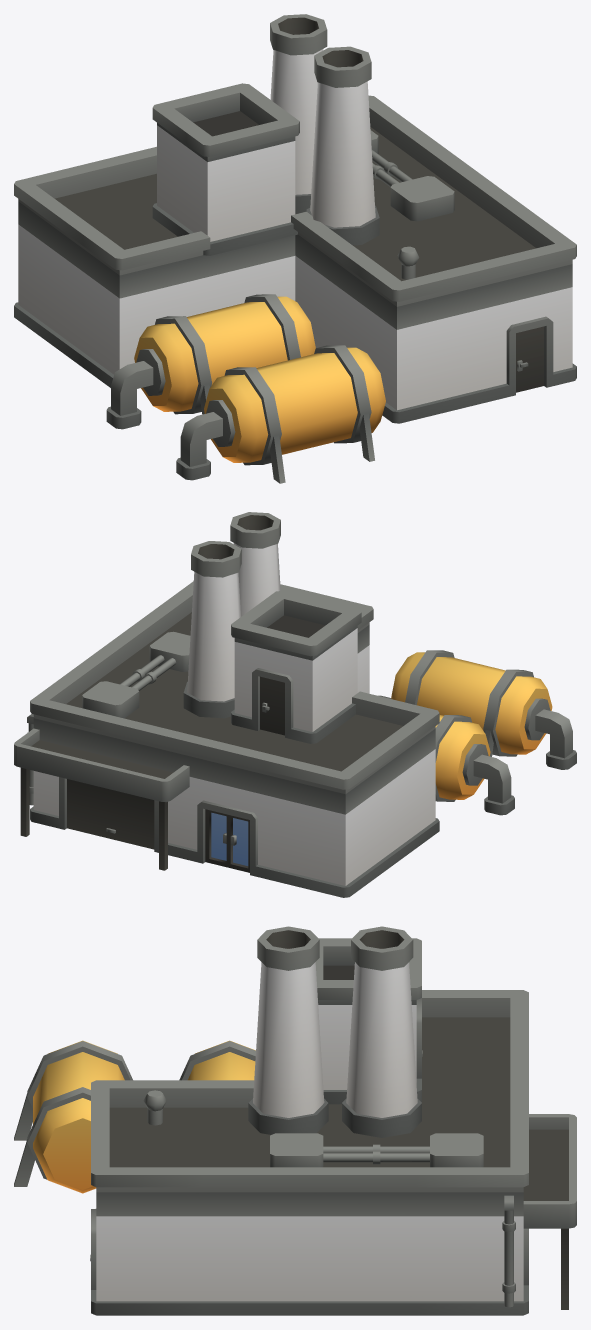
File: ind-building-c.glb
3 renders of one model, top to bottom at view 1: azimuth 30°, elevation 25°; view 2: azimuth 150°, elevation 25°; view 3: azimuth 270°, elevation 25°, orthographic. The views are drawn at different scales.
Parts seen in each view (by area): view 1: building-c; view 2: building-c; view 3: building-c.
Part boxes in pixels (x1,y1,x2,y2): building-c: (14,14,576,483); building-c: (14,512,576,897); building-c: (14,926,576,1315).
Bounding box in the file's own units: 1.88 × 1.25 × 2.11.
Materials: 1 (1 with a texture image).
